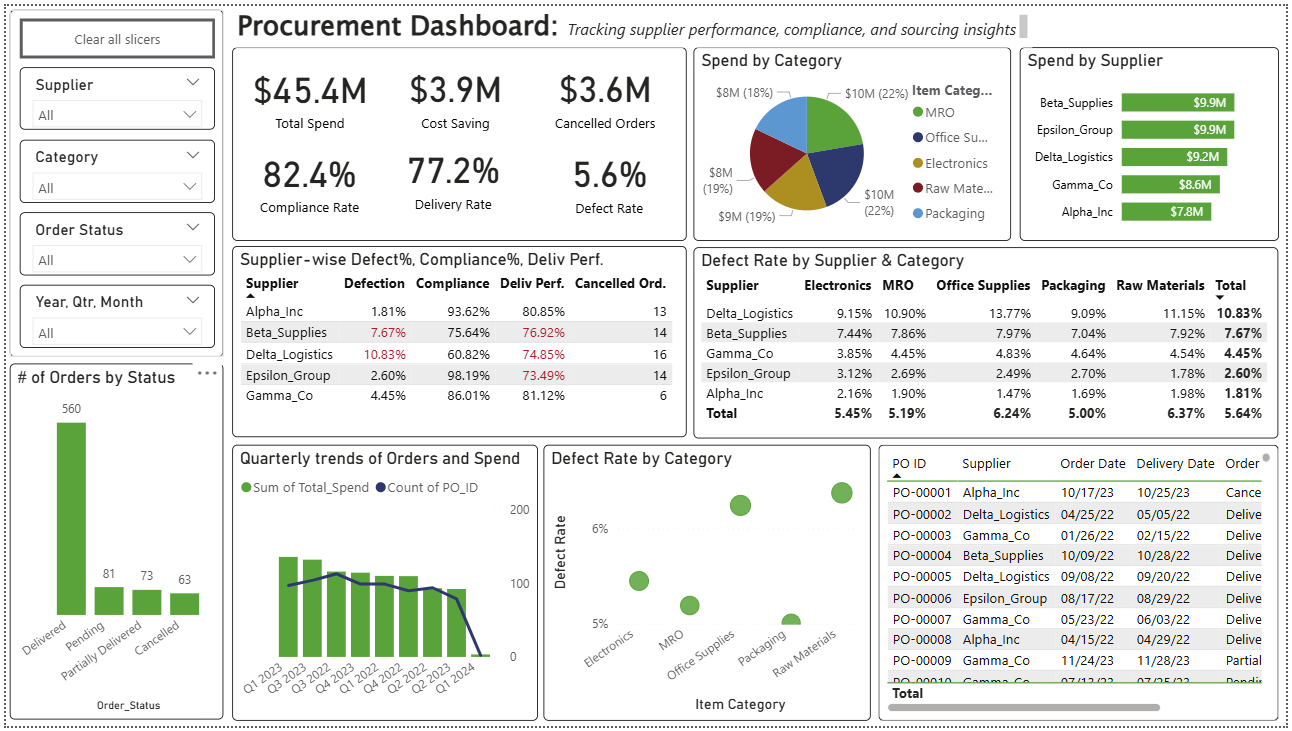

This screenshot's page, from the dashboard's own definition file:
{"tool":"powerbi","page":{"name":"Page 1","canvas":[1280,720],"ordinal":0},"visuals":[{"type":"shape","box":[225.7,40.9,454.4,193.3],"z":0,"group":"g1"},{"type":"tableEx","title":"Supplier-wise Defect%, Compliance%, Deliv Perf.","fields":{"Values":["Procurement KPI Analysis Dataset.Supplier","Procurement KPI Analysis Dataset.Defect_Rate","Procurement KPI Analysis Dataset.ComplianceRate","Procurement KPI Analysis Dataset.OnTimeDeliveryRate","Procurement KPI Analysis Dataset.CancelledOrdersCount"]},"box":[226.2,240.5,454,191.3],"z":0},{"type":"shape","box":[3.6,3.6,213.6,347.3],"z":1000,"group":"g2"},{"type":"card","fields":{"Values":["Sum(Procurement KPI Analysis Dataset.Total_Spend)"]},"box":[238.2,48.4,131,82],"z":1000,"group":"g1"},{"type":"pivotTable","title":"Defect Rate by Supplier & Category","fields":{"Rows":["Procurement KPI Analysis Dataset.Supplier"],"Columns":["Procurement KPI Analysis Dataset.Item_Category"],"Values":["Procurement KPI Analysis Dataset.Defect_Rate"]},"box":[687.9,240.7,584.4,191.1],"z":1000},{"type":"barChart","title":"Spend by Supplier","fields":{"Category":["Procurement KPI Analysis Dataset.Supplier"],"Y":["Sum(Procurement KPI Analysis Dataset.Total_Spend)"]},"box":[1013.5,40.7,258.9,193.3],"z":2000},{"type":"card","fields":{"Values":["Sum(Procurement KPI Analysis Dataset.Savings)"]},"box":[382.8,48.4,131.9,81.1],"z":2000,"group":"g1"},{"type":"actionButton","box":[13.3,12.9,195.5,40],"z":2500,"group":"g2"},{"type":"slicer","fields":{"Values":["Procurement KPI Analysis Dataset.Item_Category"]},"box":[13.3,133,195.5,63.6],"z":2750,"group":"g2"},{"type":"pieChart","title":"Spend by Category","fields":{"Y":["Sum(Procurement KPI Analysis Dataset.Total_Spend)"],"Category":["Procurement KPI Analysis Dataset.Item_Category"]},"box":[687.9,40.7,317.8,193.3],"z":3000},{"type":"slicer","fields":{"Values":["Procurement KPI Analysis Dataset.Supplier"]},"box":[13.3,61.2,195.5,62.4],"z":3000,"group":"g2"},{"type":"card","fields":{"Values":["Procurement KPI Analysis Dataset.Defect_Rate"]},"box":[537.3,129.5,131.9,88],"z":3000,"group":"g1"},{"type":"card","fields":{"Values":["Procurement KPI Analysis Dataset.ComplianceRate"]},"box":[238.2,129.5,130.1,87.2],"z":4000,"group":"g1"},{"type":"slicer","fields":{"Values":["Procurement KPI Analysis Dataset.Order_Status"]},"box":[13.3,206,195.5,63.6],"z":4000,"group":"g2"},{"type":"scatterChart","title":"Defect Rate by Category","fields":{"Y":["Procurement KPI Analysis Dataset.Defect_Rate"],"Size":["Procurement KPI Analysis Dataset.Defect_Rate"],"X":["Procurement KPI Analysis Dataset.Item_Category"]},"box":[537.1,438.6,327.1,275.7],"z":4000},{"type":"card","fields":{"Values":["Procurement KPI Analysis Dataset.OnTimeDeliveryRate"]},"box":[382.8,129.5,127.4,80.3],"z":5000,"group":"g1"},{"type":"slicer","fields":{"Values":["Order_Date.Year","Order_Date.Qtr","Order_Date.Month"]},"box":[13.3,279,195.5,63.6],"z":5000,"group":"g2"},{"type":"clusteredColumnChart","title":"# of Orders by Status","fields":{"Category":["Procurement KPI Analysis Dataset.Order_Status"],"Y":["CountNonNull(Procurement KPI Analysis Dataset.Order_Status)"]},"box":[3.8,357.5,213.8,356.2],"z":5000},{"type":"card","fields":{"Values":["Procurement KPI Analysis Dataset.CancelledOrdersValue"]},"box":[537.3,48.4,123.8,81.1],"z":6000,"group":"g1"},{"type":"lineClusteredColumnComboChart","title":"Quarterly trends of Orders and Spend","fields":{"Category":["Order_Date.YearQuarter"],"Y":["Sum(Procurement KPI Analysis Dataset.Total_Spend)"],"Y2":["CountNonNull(Procurement KPI Analysis Dataset.PO_ID)"]},"box":[225.7,438.6,305.7,275.7],"z":6000},{"type":"group","id":"g1","title":"Group 1","box":[225.7,40.9,454.4,193.3],"z":7000},{"type":"tableEx","fields":{"Values":["Procurement KPI Analysis Dataset.PO_ID","Procurement KPI Analysis Dataset.Supplier","Procurement KPI Analysis Dataset.Order_Date","Procurement KPI Analysis Dataset.Delivery_Date","Procurement KPI Analysis Dataset.Order_Status","Sum(Procurement KPI Analysis Dataset.Quantity)"]},"box":[872.9,438.6,400,275.7],"z":8000},{"type":"group","id":"g2","title":"Group 2","box":[3.6,3.6,213.6,347.3],"z":9000},{"type":"textbox","box":[226.2,0,800,41.2],"z":9001}]}

Visuals, with their boxes in screenshot pixels (x1, y1, x2, y2), scaled from the page's 1280x720 canvas onto the 1292x731 screenshot:
shape: select_region(228, 42, 686, 238)
"Supplier-wise Defect%, Compliance%, Deliv Perf." tableEx: select_region(228, 244, 687, 438)
shape: select_region(4, 4, 219, 356)
card - Sum(Procurement KPI Analysis Dataset.Total_Spend): select_region(240, 49, 373, 132)
"Defect Rate by Supplier & Category" pivotTable: select_region(694, 244, 1284, 438)
"Spend by Supplier" barChart: select_region(1023, 41, 1284, 238)
card - Sum(Procurement KPI Analysis Dataset.Savings): select_region(386, 49, 520, 131)
actionButton: select_region(13, 13, 211, 54)
slicer - Procurement KPI Analysis Dataset.Item_Category: select_region(13, 135, 211, 200)
"Spend by Category" pieChart: select_region(694, 41, 1015, 238)
slicer - Procurement KPI Analysis Dataset.Supplier: select_region(13, 62, 211, 125)
card - Procurement KPI Analysis Dataset.Defect_Rate: select_region(542, 131, 675, 221)
card - Procurement KPI Analysis Dataset.ComplianceRate: select_region(240, 131, 372, 220)
slicer - Procurement KPI Analysis Dataset.Order_Status: select_region(13, 209, 211, 274)
"Defect Rate by Category" scatterChart: select_region(542, 445, 872, 725)
card - Procurement KPI Analysis Dataset.OnTimeDeliveryRate: select_region(386, 131, 515, 213)
slicer - Order_Date.Year x Order_Date.Qtr: select_region(13, 283, 211, 348)
"# of Orders by Status" clusteredColumnChart: select_region(4, 363, 220, 725)
card - Procurement KPI Analysis Dataset.CancelledOrdersValue: select_region(542, 49, 667, 131)
"Quarterly trends of Orders and Spend" lineClusteredColumnComboChart: select_region(228, 445, 536, 725)
"Group 1" group: select_region(228, 42, 686, 238)
tableEx - Procurement KPI Analysis Dataset.PO_ID x Procurement KPI Analysis Dataset.Supplier: select_region(881, 445, 1285, 725)
"Group 2" group: select_region(4, 4, 219, 356)
textbox: select_region(228, 0, 1036, 42)
